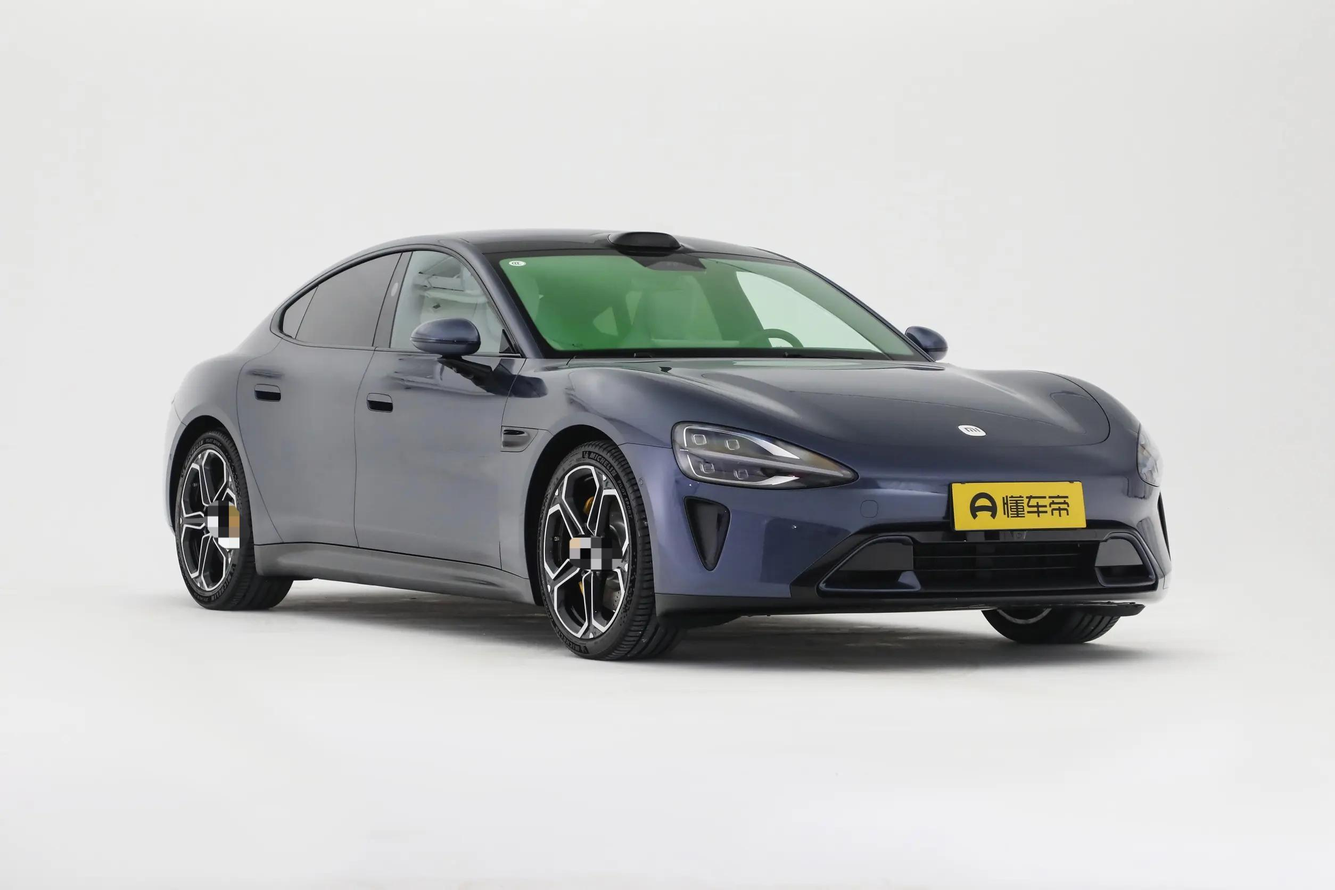XIAOMI: (958, 425, 986, 436)
